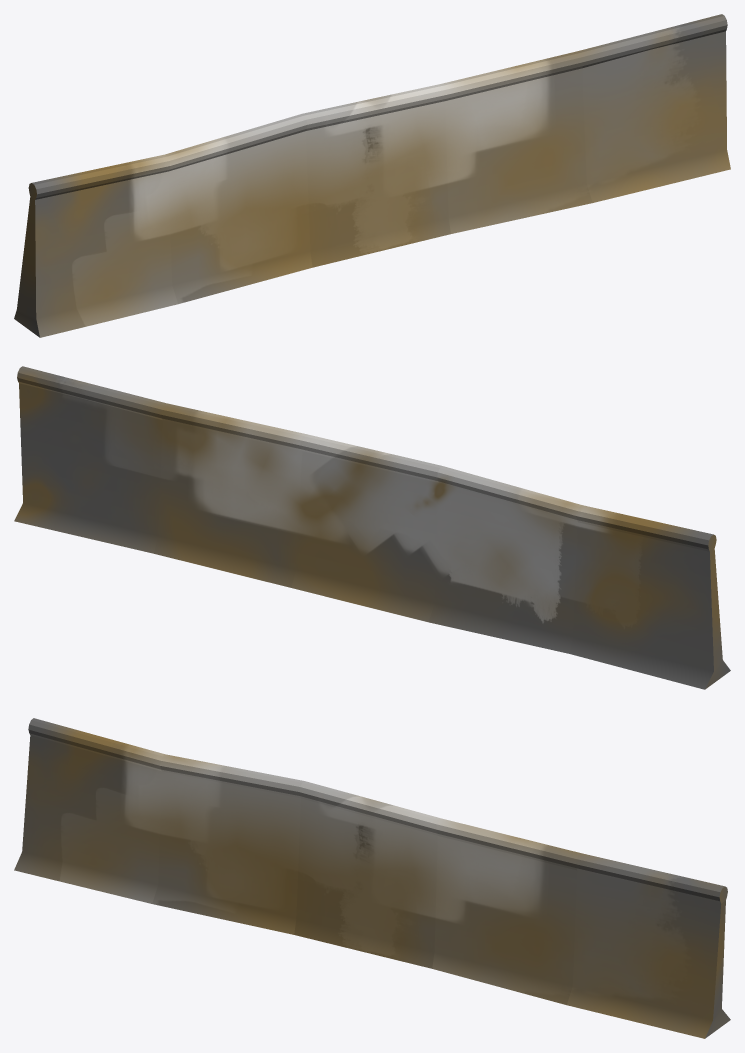
Rendered from wall_short.fbx.
The picture shows the model from 3 angles, top to bottom: view 1: azimuth 30°, elevation 25°; view 2: azimuth 150°, elevation 25°; view 3: azimuth 330°, elevation 25°; orthographic projection.
Visible parts, largest first — view 1: wall_short; view 2: wall_short; view 3: wall_short.
Boxes of the visible parts, x1=… form: wall_short: x1=14, y1=14, x2=730, y2=337; wall_short: x1=14, y1=366, x2=730, y2=689; wall_short: x1=14, y1=718, x2=730, y2=1038.
Size of the model in its own units: 96.21 by 19.21 by 6.21.
